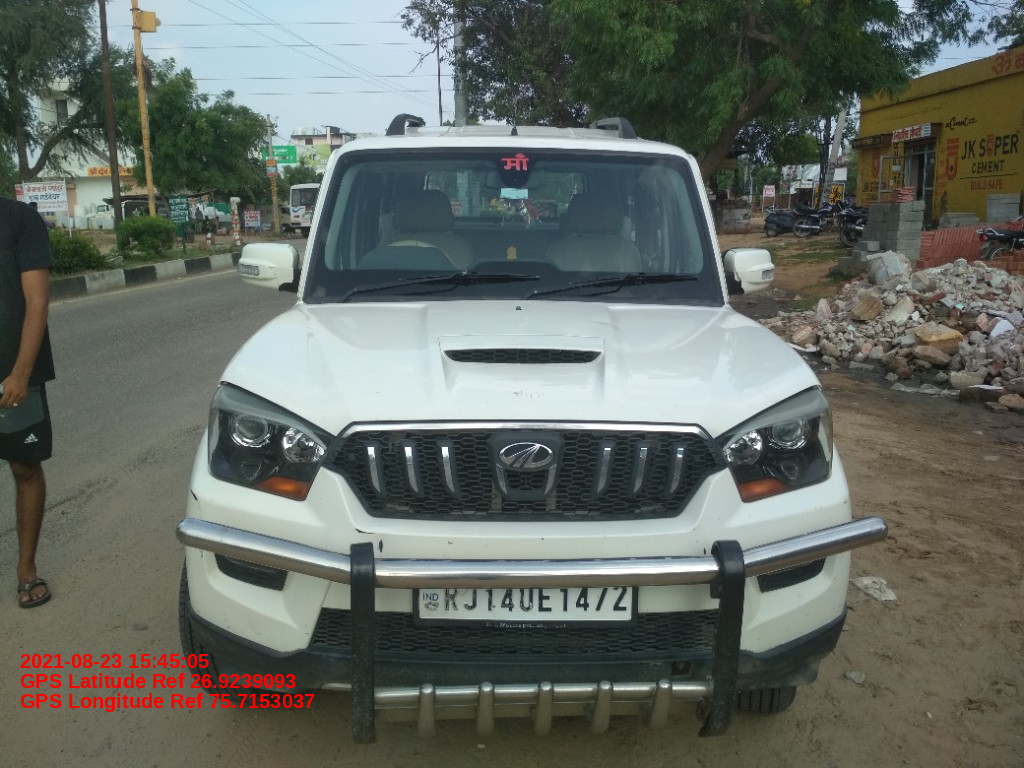Scratched: (508, 380, 554, 400), (221, 614, 240, 634), (351, 525, 379, 536), (443, 535, 464, 549), (188, 485, 203, 504), (536, 531, 553, 545), (251, 626, 267, 640), (377, 538, 389, 555), (699, 540, 711, 557), (193, 604, 209, 616), (199, 548, 210, 563), (841, 498, 852, 510), (303, 627, 311, 640)
